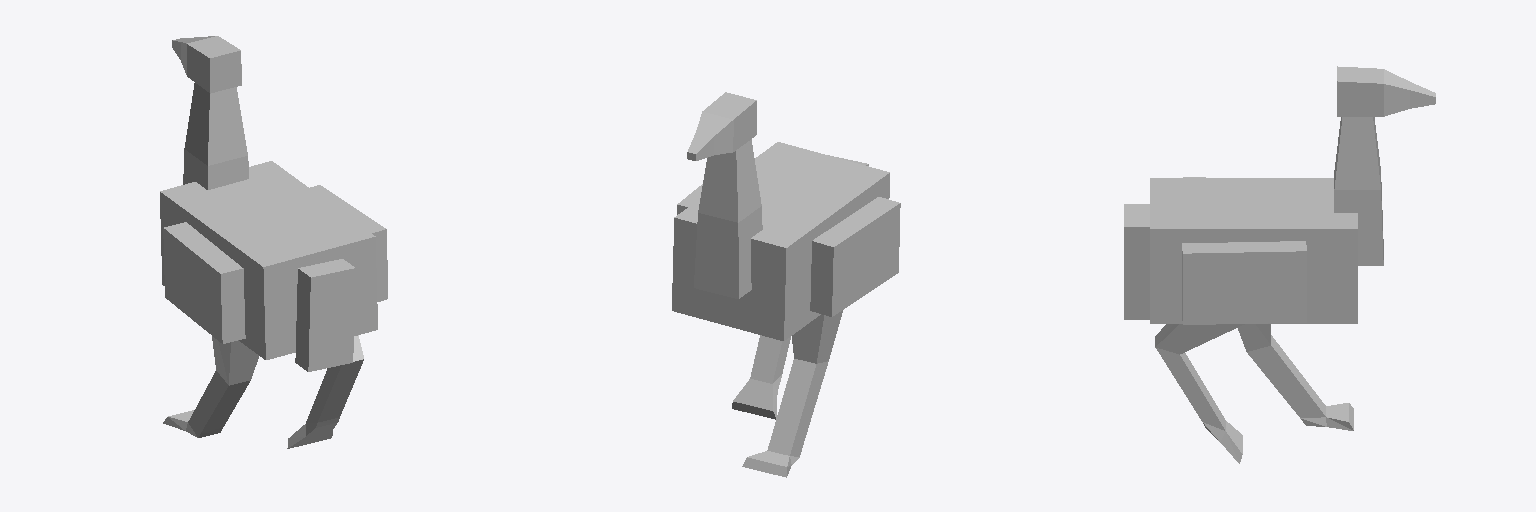
File: Ostrich_000210.obj
The picture shows the model from 3 angles: view 1: azimuth 30°, elevation 25°; view 2: azimuth 150°, elevation 25°; view 3: azimuth 270°, elevation 25°; orthographic projection.
Visible parts, largest first — view 1: Cube_Cube.001; view 2: Cube_Cube.001; view 3: Cube_Cube.001.
Boxes of the visible parts, x1=… form: Cube_Cube.001: x1=160, y1=36, x2=387, y2=448; Cube_Cube.001: x1=672, y1=92, x2=900, y2=477; Cube_Cube.001: x1=1124, y1=66, x2=1435, y2=463.
Bounding box in the file's own units: 0.7482 × 1.54 × 1.2.